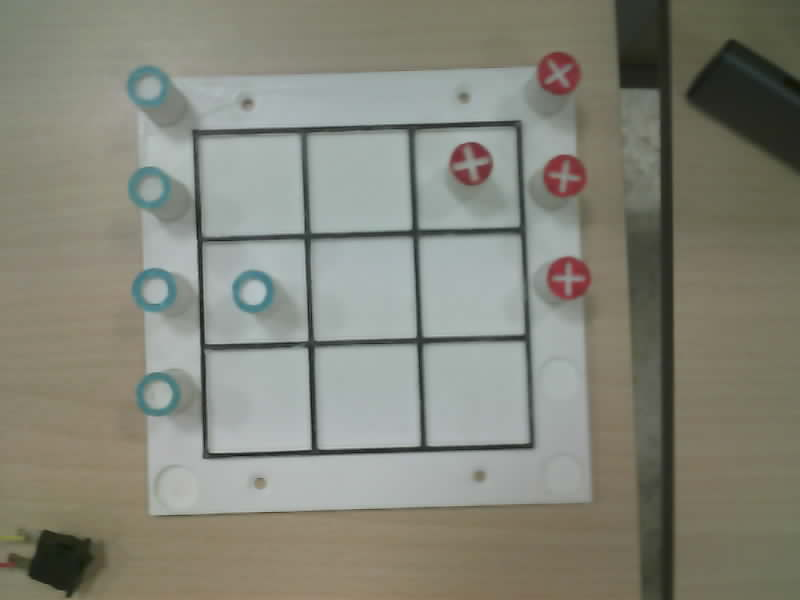blue circle: (132, 268, 176, 312), (136, 372, 180, 415), (126, 65, 170, 107), (128, 166, 170, 209), (232, 270, 273, 312)
board: (128, 53, 590, 514)
cells: (423, 342, 529, 445), (315, 344, 419, 448), (206, 348, 310, 452), (203, 240, 307, 343), (415, 126, 519, 228), (311, 237, 415, 339), (198, 135, 303, 236), (421, 234, 524, 336), (308, 131, 410, 231)
grid: (193, 121, 533, 457)
red cross: (449, 142, 492, 185), (543, 154, 586, 197), (537, 52, 580, 94), (547, 257, 590, 299)
